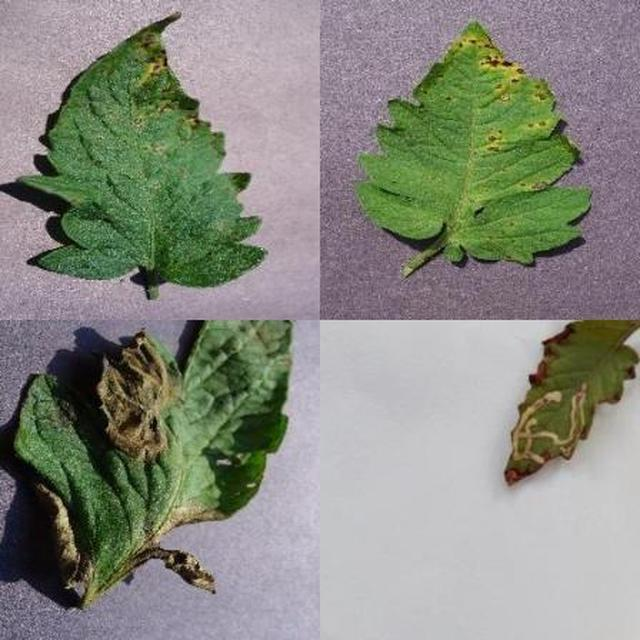Septoria Leaf: (196, 202, 640, 640)
